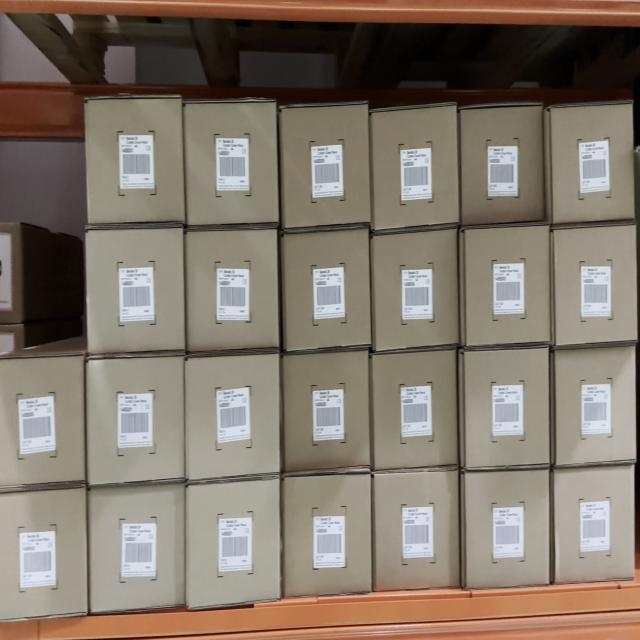box: (88, 356, 185, 480), (87, 231, 185, 349), (88, 99, 181, 222), (89, 492, 185, 608), (187, 356, 279, 474), (188, 103, 275, 224), (0, 492, 87, 613), (0, 357, 85, 480), (186, 487, 280, 598), (187, 232, 277, 346), (282, 107, 368, 225), (284, 478, 371, 592), (463, 350, 548, 465), (462, 231, 550, 342), (374, 352, 456, 469), (283, 237, 371, 346), (373, 111, 457, 225), (284, 354, 368, 468), (552, 348, 635, 462), (374, 475, 458, 585), (551, 107, 632, 221), (463, 475, 549, 582), (554, 230, 636, 340), (373, 236, 458, 342), (463, 106, 541, 221), (552, 470, 634, 577)
